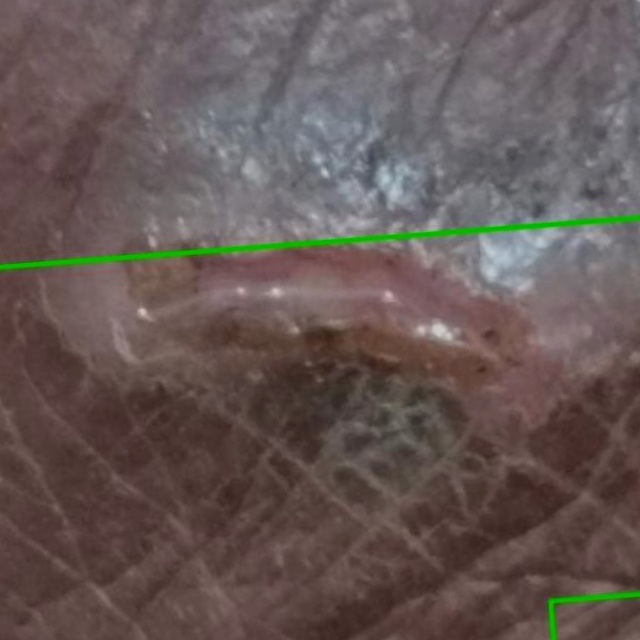Eczema: (0, 217, 639, 639)
